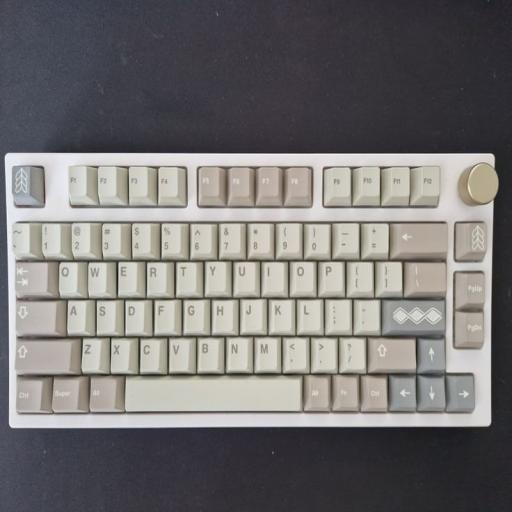keyboard: (0, 152, 495, 427)
